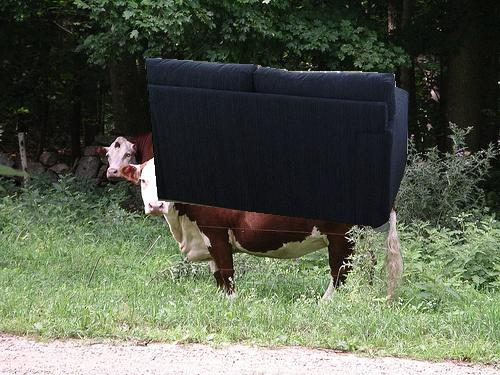tampered: (145, 58, 409, 232)
